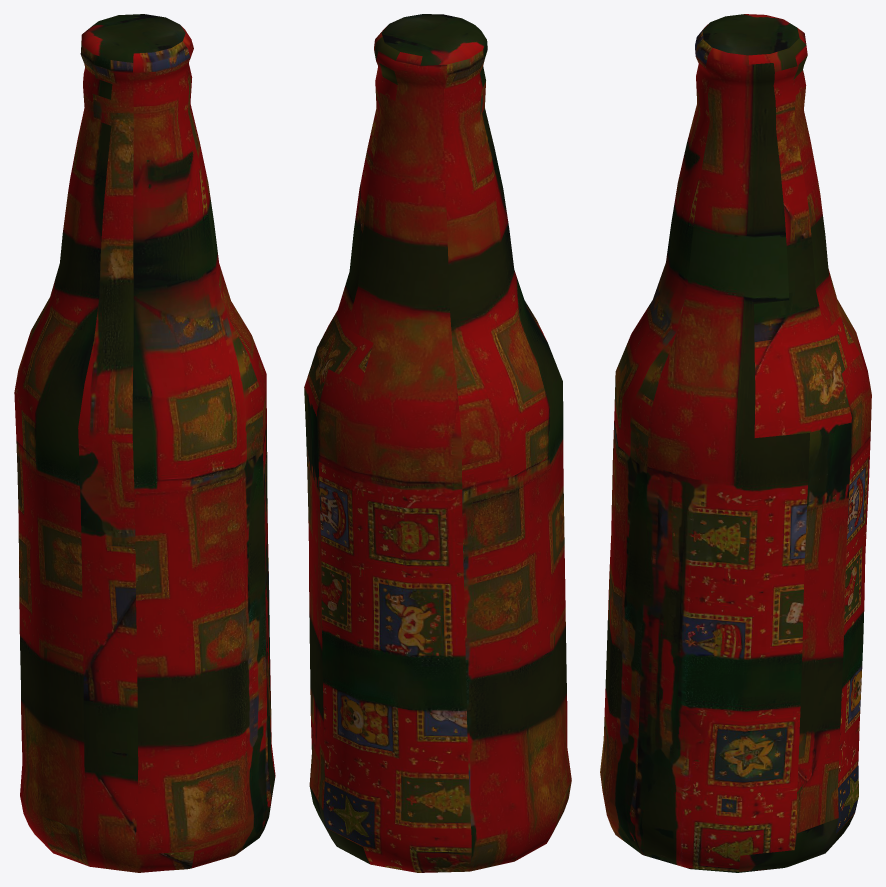
The model's file is PonyMaltaCerrada.fbx.
3 renders of one model, left to right at view 1: azimuth 30°, elevation 25°; view 2: azimuth 150°, elevation 25°; view 3: azimuth 270°, elevation 25°, orthographic.
Parts seen in each view (by area): view 1: tripo_node_c29c88ec; view 2: tripo_node_c29c88ec; view 3: tripo_node_c29c88ec.
Boxes of the visible parts, x1=… form: tripo_node_c29c88ec: x1=14, y1=14, x2=275, y2=872; tripo_node_c29c88ec: x1=304, y1=14, x2=571, y2=872; tripo_node_c29c88ec: x1=600, y1=14, x2=871, y2=872.
Size of the model in its own units: 0.2883 by 0.9799 by 0.3026.
